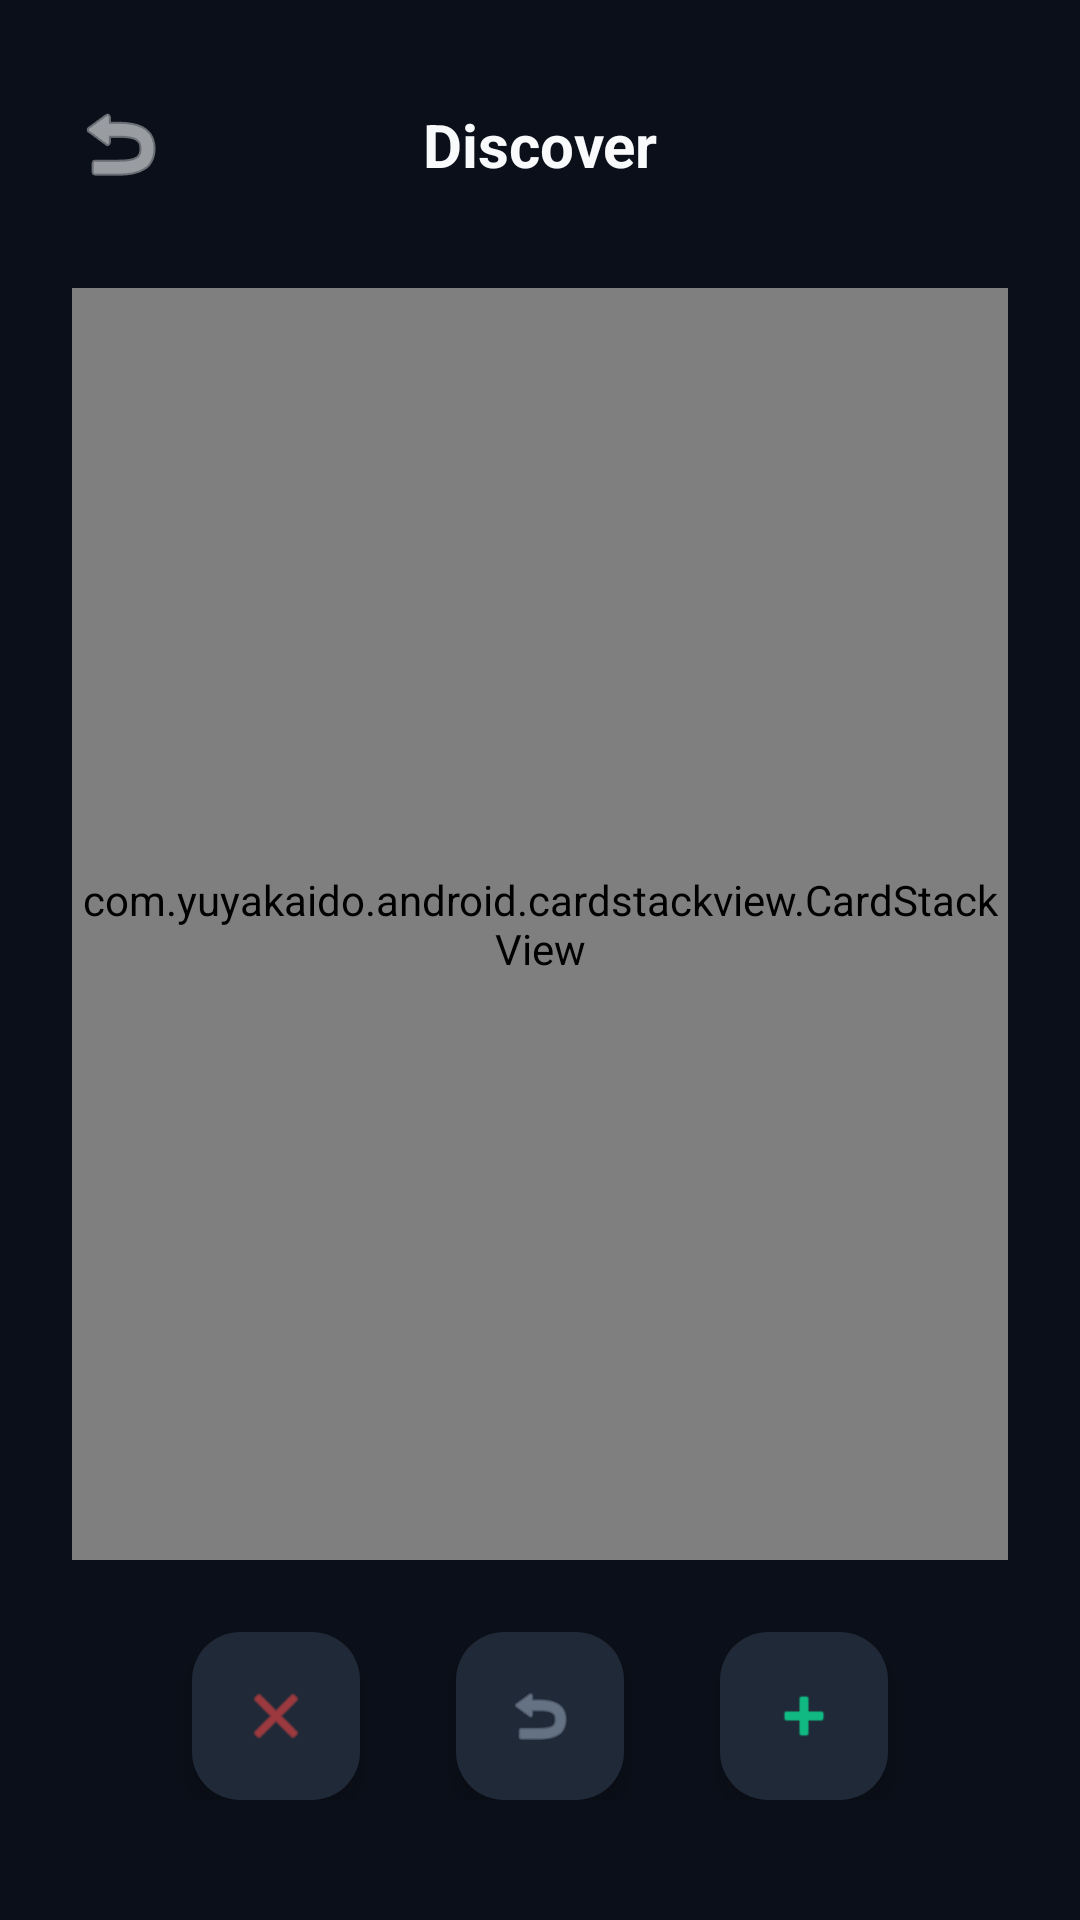

Named icons in this screenshot (1080px x 1920px) and their bounding boxes, (x1, y1, x2, y2):
add: (720, 1632, 888, 1800)
close clear cancel: (192, 1632, 360, 1800)
revert: (87, 113, 156, 176), (456, 1632, 624, 1800)
